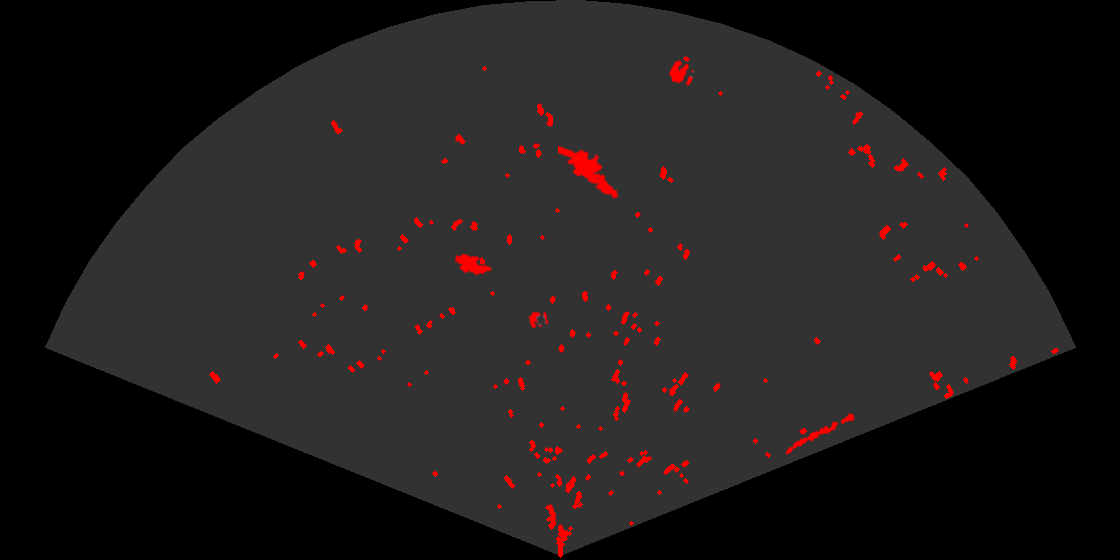AUV: (453, 252, 494, 277)
ball: (667, 58, 695, 87), (527, 310, 550, 330)
chain: (784, 411, 858, 456)
frogman: (558, 144, 620, 200)
